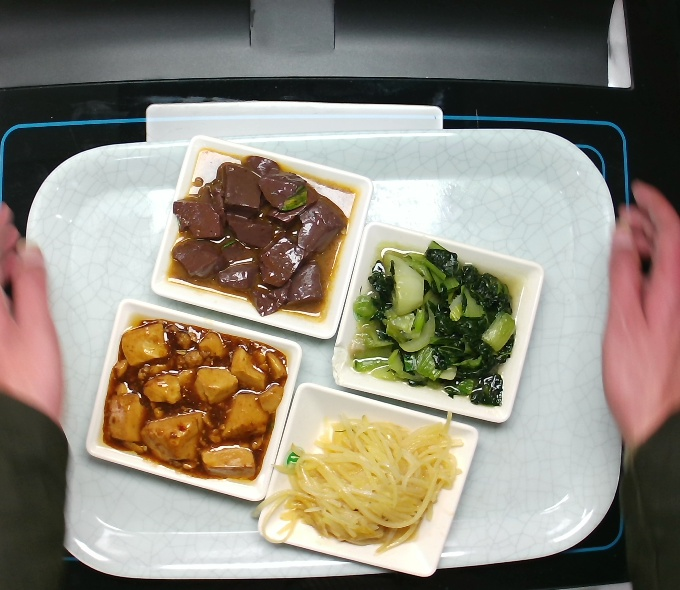wcq-MaPoDouFu: (94, 321, 287, 477)
wcq-NiuXue: (178, 159, 340, 305)
wcq-TuDouSi: (280, 409, 461, 555)
wcq-YouDongCai: (359, 249, 525, 406)
